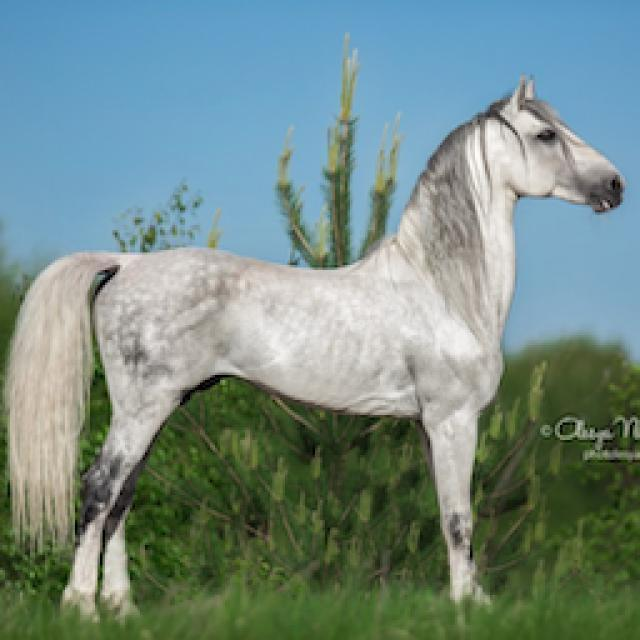Horse: (0, 65, 630, 628)
